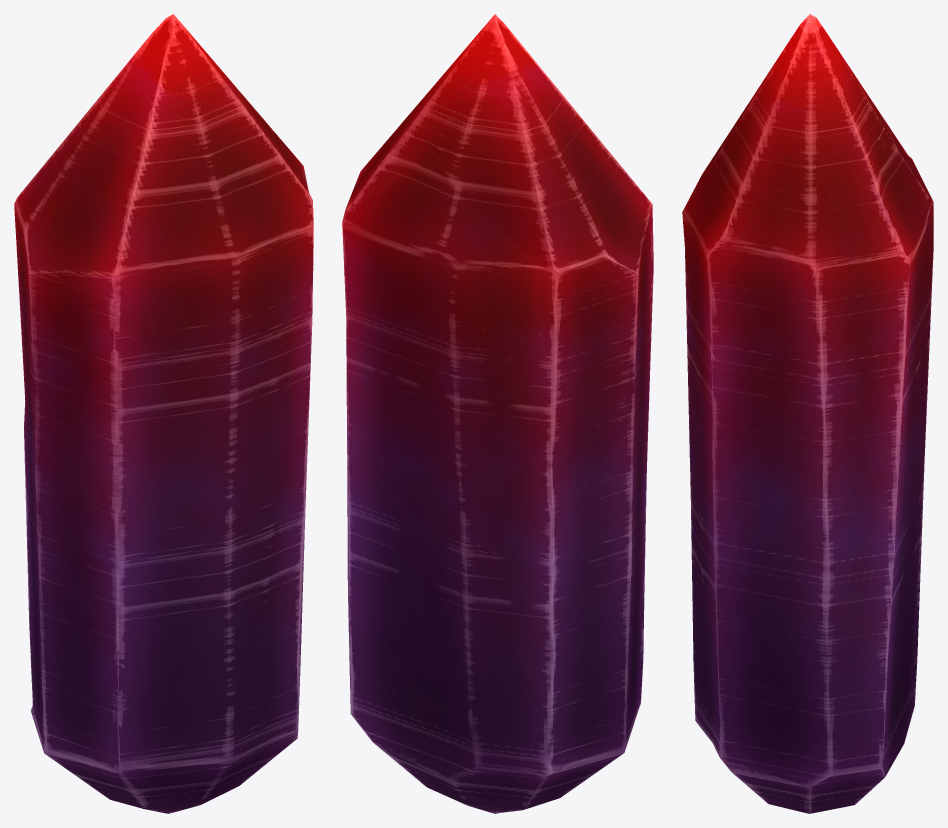
The model's file is thystame.glb.
3 renders of one model, left to right at view 1: azimuth 30°, elevation 25°; view 2: azimuth 150°, elevation 25°; view 3: azimuth 270°, elevation 25°, orthographic.
Parts seen in each view (by area): view 1: Crystal_Rock4; view 2: Crystal_Rock4; view 3: Crystal_Rock4.
Part boxes in pixels (x1,y1,x2,y2): Crystal_Rock4: (14,14,313,813); Crystal_Rock4: (342,14,653,813); Crystal_Rock4: (682,14,933,813).
Bounding box in the file's own units: 0.7232 × 2 × 0.5703.
Materials: 1 (1 with a texture image).
